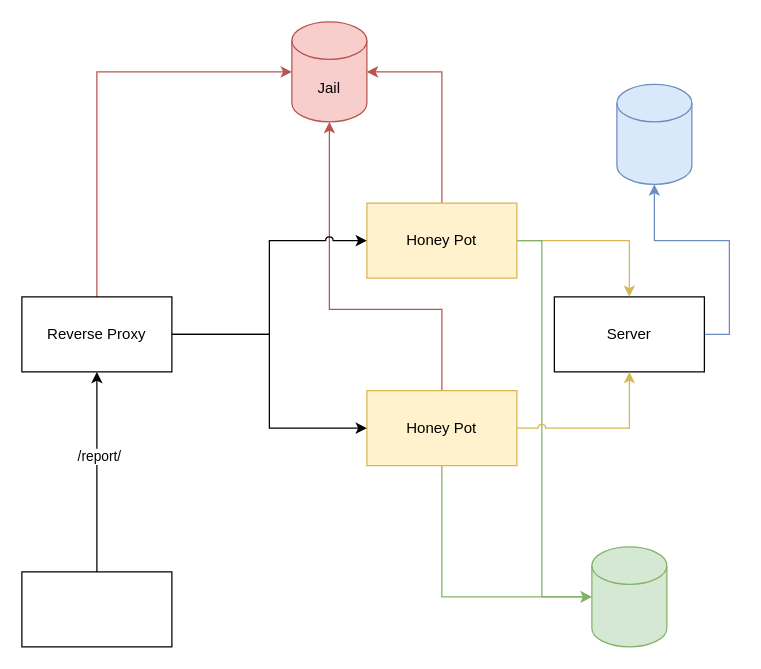
The diagram is 761 pixels wide and 669 high, and some of its shapes have lost their labels. Here are the shapes that lost their labels. From the top down, the centre of each, then its label:
At point (654, 133): "Database".
At point (96, 609): "Desktop".
At point (629, 596): "Known Hosts".
